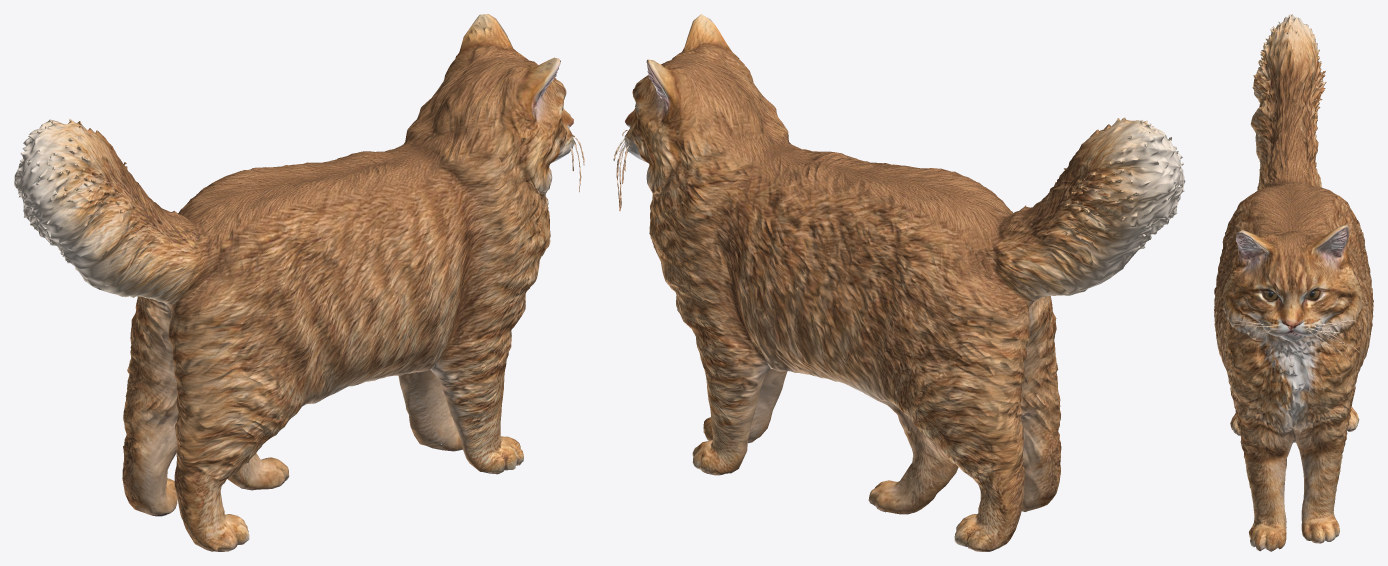
File: DEWEYCAT.glb
The picture shows the model from 3 angles, left to right: view 1: azimuth 30°, elevation 25°; view 2: azimuth 150°, elevation 25°; view 3: azimuth 270°, elevation 25°; orthographic projection. The views are drawn at different scales.
Parts seen in each view (by area): view 1: tripo_node_6c6ac832-1b99-4e79-bb49-ae35edbb7303; view 2: tripo_node_6c6ac832-1b99-4e79-bb49-ae35edbb7303; view 3: tripo_node_6c6ac832-1b99-4e79-bb49-ae35edbb7303.
Boxes of the visible parts, bbox=[...] form: tripo_node_6c6ac832-1b99-4e79-bb49-ae35edbb7303: bbox=[14, 14, 584, 551]; tripo_node_6c6ac832-1b99-4e79-bb49-ae35edbb7303: bbox=[613, 14, 1185, 551]; tripo_node_6c6ac832-1b99-4e79-bb49-ae35edbb7303: bbox=[1214, 14, 1373, 551].
Size of the model in its own units: 1.32 by 0.997 by 0.4028.
Materials: 1 (1 with a texture image).
